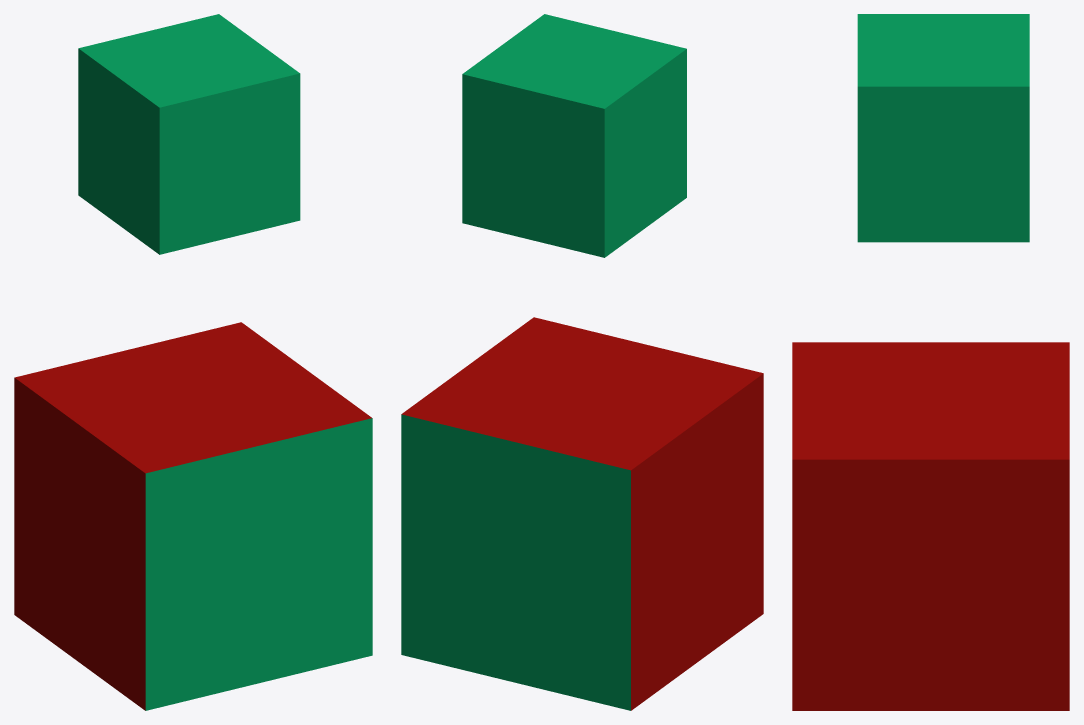
Rendered from cubes.obj.
The picture shows the model from 3 angles, left to right: view 1: azimuth 30°, elevation 25°; view 2: azimuth 150°, elevation 25°; view 3: azimuth 270°, elevation 25°; orthographic projection. The views are drawn at different scales.
Visible parts, largest first — view 1: Cube, Cube.001; view 2: Cube, Cube.001; view 3: Cube, Cube.001.
Boxes of the visible parts, x1,y1,x2,y2 form: Cube: [14, 322, 372, 710]; Cube.001: [78, 14, 300, 254]; Cube: [401, 317, 763, 710]; Cube.001: [462, 14, 686, 257]; Cube: [792, 342, 1069, 710]; Cube.001: [857, 14, 1029, 242].
Bounding box in the file's own units: 2 × 4.8 × 2.
